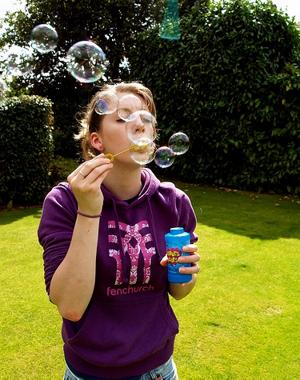person: (38, 82, 202, 379)
